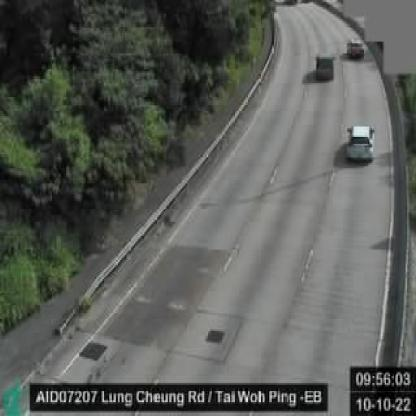Car: (346, 123, 375, 162), (318, 54, 336, 82), (348, 40, 364, 60)
